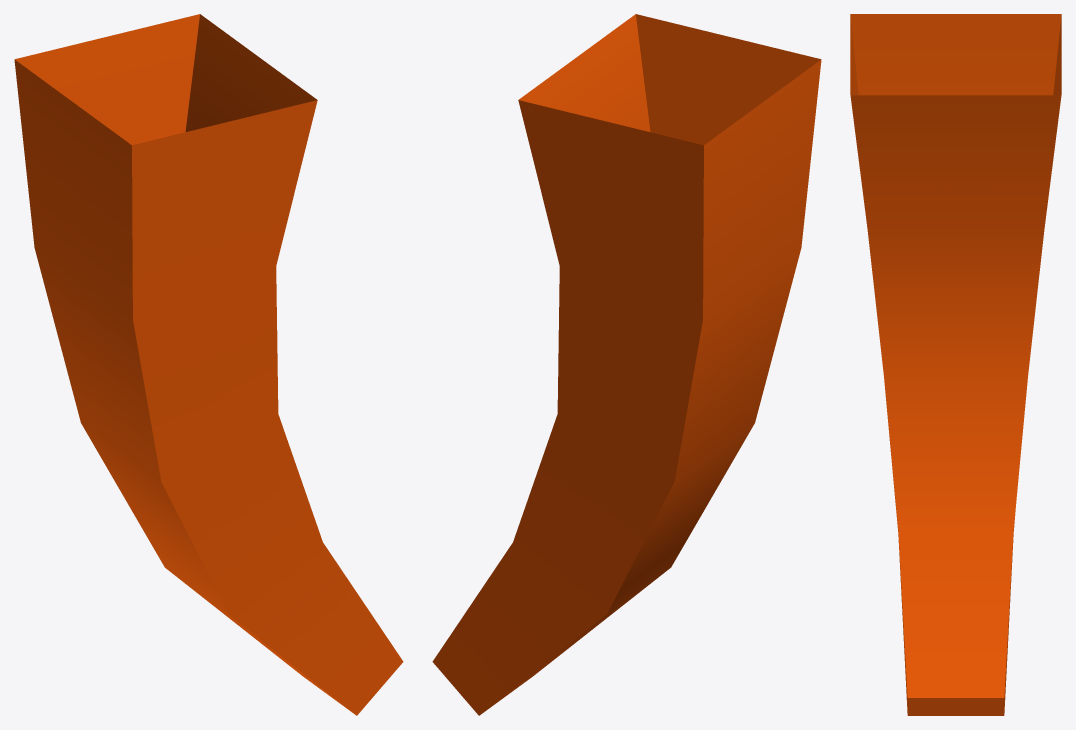
Rendered from AR7_Trigger.fbx.
The picture shows the model from 3 angles, left to right: view 1: azimuth 30°, elevation 25°; view 2: azimuth 150°, elevation 25°; view 3: azimuth 270°, elevation 25°; orthographic projection. The views are drawn at different scales.
Parts seen in each view (by area): view 1: AR7_Trigger; view 2: AR7_Trigger; view 3: AR7_Trigger.
Part boxes in pixels (x1,y1,x2,y2): AR7_Trigger: (14,14,403,715); AR7_Trigger: (432,14,821,715); AR7_Trigger: (850,14,1061,715).
Size of the model in its own units: 1.88 by 3.89 by 1.26.
